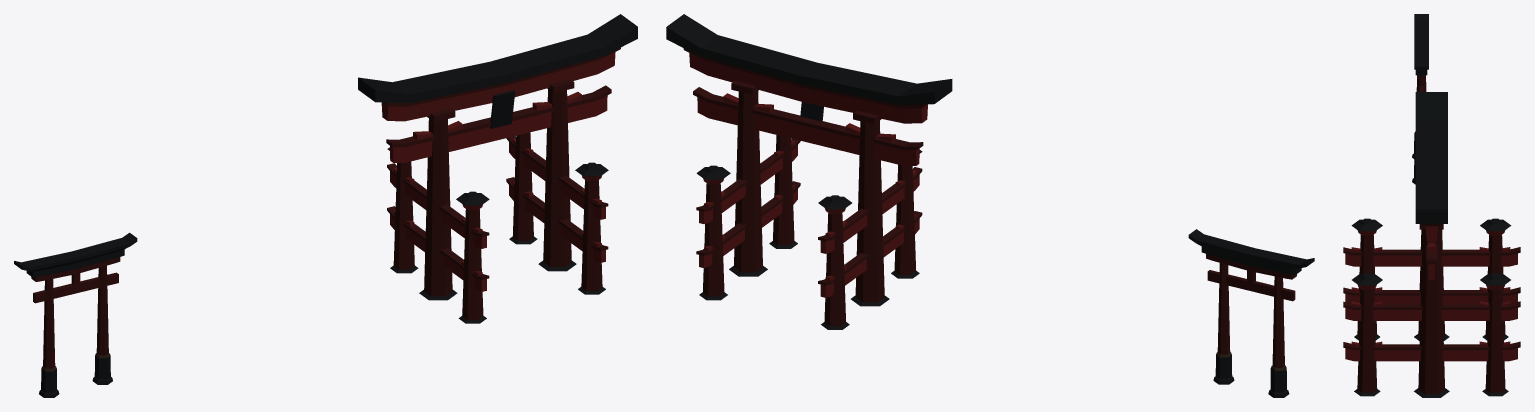
The model's file is JapaneseGatesTorii_OBJ.obj.
3 views of the same model, side by side, from view 1: azimuth 30°, elevation 25°; view 2: azimuth 150°, elevation 25°; view 3: azimuth 270°, elevation 25° (orthographic). The views are drawn at different scales.
Visible parts, largest first — view 1: OWnG_largeGate(RyobuTorii)_01_Cylinder.002, OWnG_averageGate(MyojinTorii)_01_Cylinder; view 2: OWnG_largeGate(RyobuTorii)_01_Cylinder.002, OWnG_averageGate(MyojinTorii)_01_Cylinder; view 3: OWnG_largeGate(RyobuTorii)_01_Cylinder.002, OWnG_averageGate(MyojinTorii)_01_Cylinder.
Part boxes in pixels (bbox=[...]): OWnG_largeGate(RyobuTorii)_01_Cylinder.002: bbox=[358, 14, 637, 323]; OWnG_averageGate(MyojinTorii)_01_Cylinder: bbox=[14, 232, 137, 397]; OWnG_largeGate(RyobuTorii)_01_Cylinder.002: bbox=[666, 14, 952, 329]; OWnG_averageGate(MyojinTorii)_01_Cylinder: bbox=[1188, 229, 1314, 397]; OWnG_largeGate(RyobuTorii)_01_Cylinder.002: bbox=[1343, 92, 1520, 397]; OWnG_averageGate(MyojinTorii)_01_Cylinder: bbox=[1412, 14, 1428, 184].
Size of the model in its own units: 36.82 by 12.98 by 9.78.
